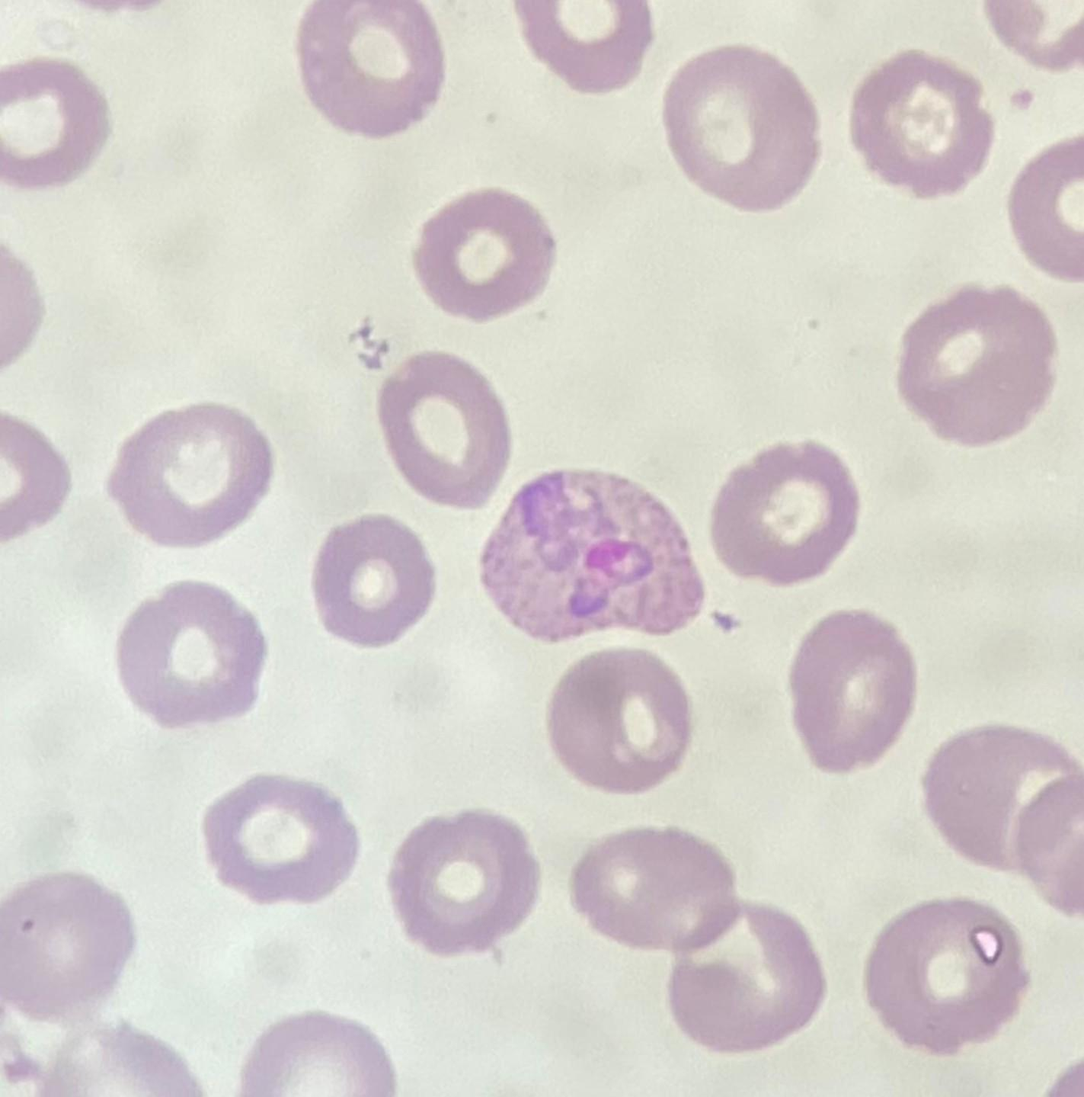Infected: (475, 463, 707, 645)
Uninfected: (109, 395, 284, 548), (866, 890, 1027, 1055), (663, 44, 817, 215), (668, 895, 824, 1052), (904, 283, 1052, 440), (848, 44, 1001, 194), (790, 606, 922, 779), (114, 575, 267, 720), (381, 349, 519, 509), (297, 0, 448, 140), (927, 725, 1081, 862), (571, 827, 742, 950), (719, 433, 854, 584), (198, 773, 351, 906), (394, 804, 531, 949), (554, 649, 686, 791), (302, 514, 434, 654), (0, 872, 126, 1018), (409, 189, 553, 316), (236, 1002, 387, 1097)
